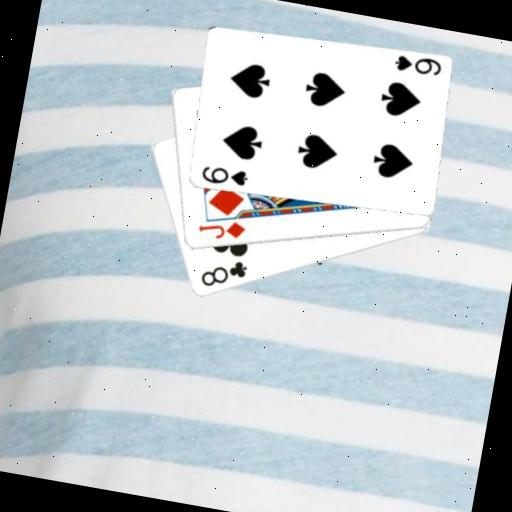6S: (197, 160, 251, 191), (391, 49, 444, 79)
8C: (196, 252, 250, 295)
JD: (193, 212, 248, 245)
